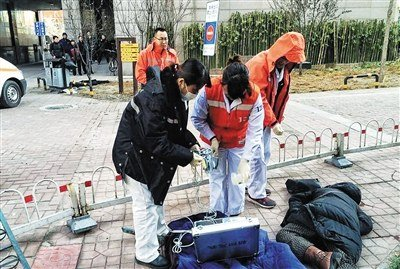fall: (266, 170, 381, 269)
